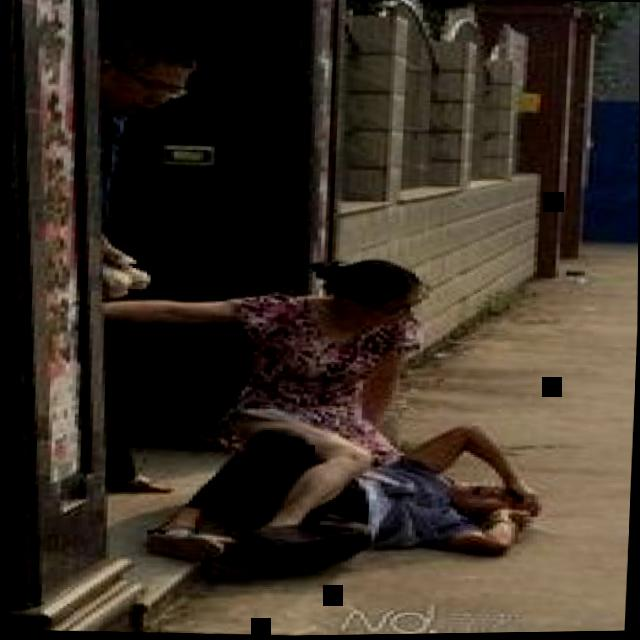Fall-Detected: (120, 405, 535, 598)
